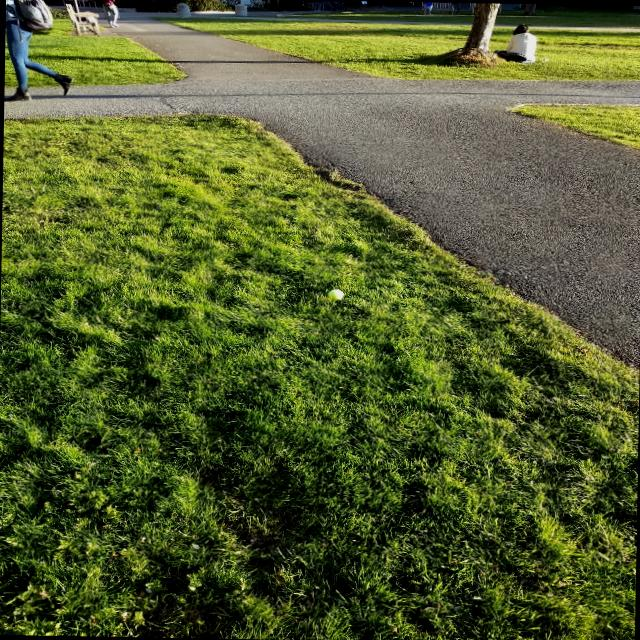Tennis Ball: (326, 288, 344, 300)
